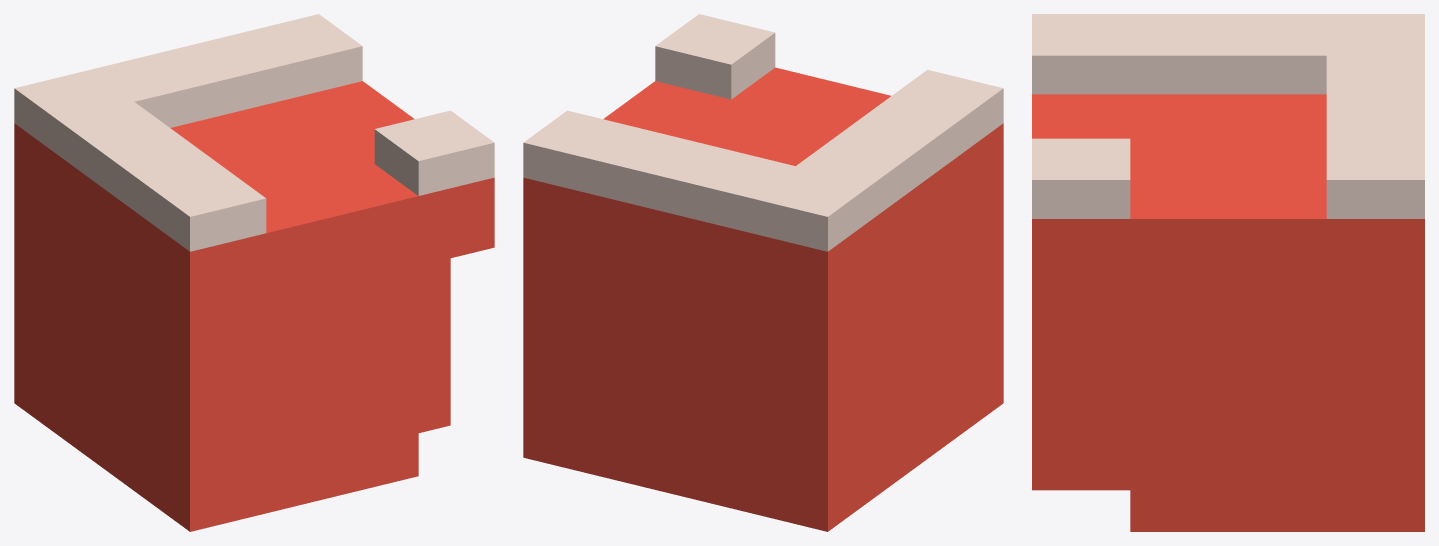
File: Wall_Top_01.fbx
The picture shows the model from 3 angles, left to right: view 1: azimuth 30°, elevation 25°; view 2: azimuth 150°, elevation 25°; view 3: azimuth 270°, elevation 25°; orthographic projection. The views are drawn at different scales.
Parts seen in each view (by area): view 1: Cube.312; view 2: Cube.312; view 3: Cube.312.
Part boxes in pixels (bbox=[...]): Cube.312: bbox=[14, 14, 494, 531]; Cube.312: bbox=[523, 14, 1003, 531]; Cube.312: bbox=[1032, 14, 1424, 531].
Bounding box in the file's own units: 100 × 98.87 × 100.
